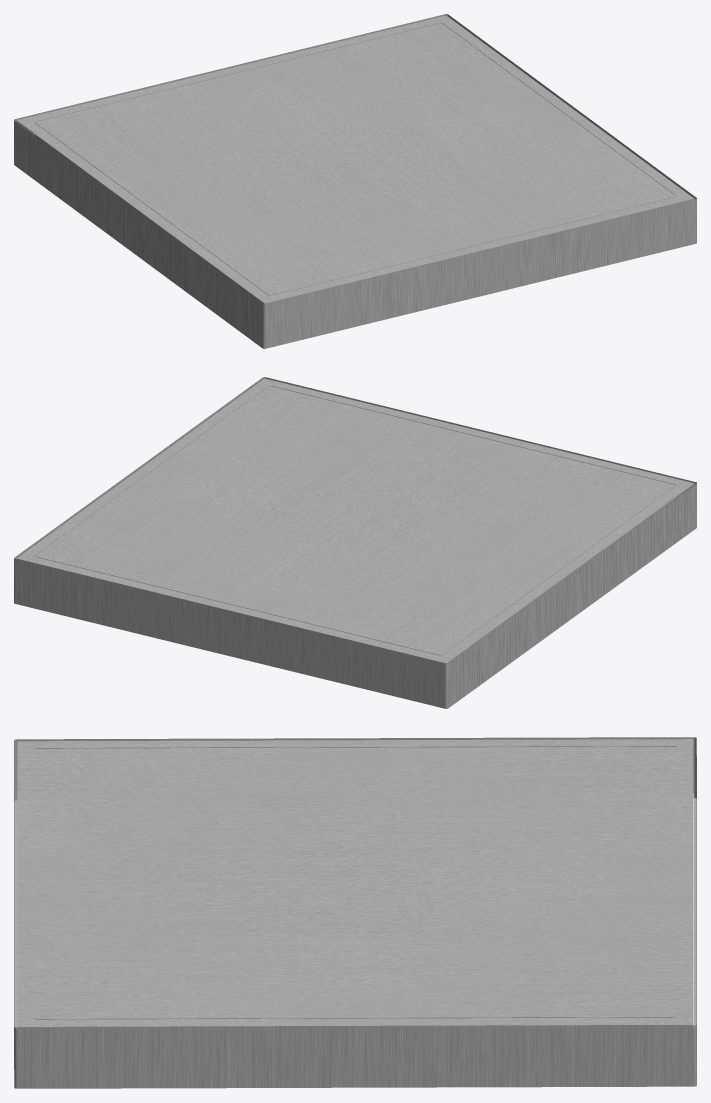
Rendered from A23DMOD_FBX.fbx.
The picture shows the model from 3 angles, top to bottom: view 1: azimuth 30°, elevation 25°; view 2: azimuth 150°, elevation 25°; view 3: azimuth 270°, elevation 25°; orthographic projection. The views are drawn at different scales.
Parts seen in each view (by area): view 1: A23DOBJ_001; view 2: A23DOBJ_001; view 3: A23DOBJ_001.
Boxes of the visible parts, x1=… form: A23DOBJ_001: x1=14, y1=14, x2=696, y2=348; A23DOBJ_001: x1=14, y1=377, x2=696, y2=708; A23DOBJ_001: x1=14, y1=737, x2=696, y2=1088.
Size of the model in its own units: 88.92 by 9.07 by 88.95.
Materials: 2 (2 with a texture image).
